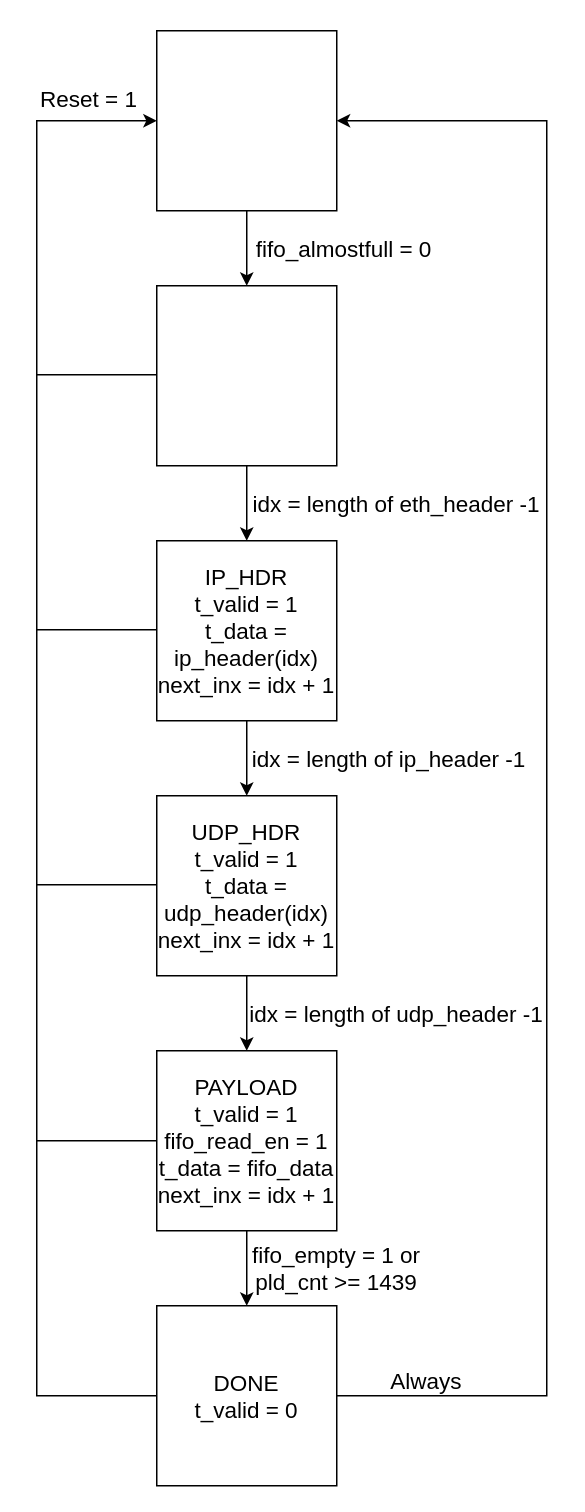
Image size: 585x1512. Some labels were removed from this diagram. The shapes that lost their labels are listed below. From the top down, each one's centre as x and y in pixels, then its label:
(246,120): IDLE next_idx = 0 t_valid = 0 t_last = 0 t_data = "00000000" fifo_rd_en = 0
(246,375): ETH_HDR t_valid = 1 t_data = eth_header(idx) next_inx = idx + 1
